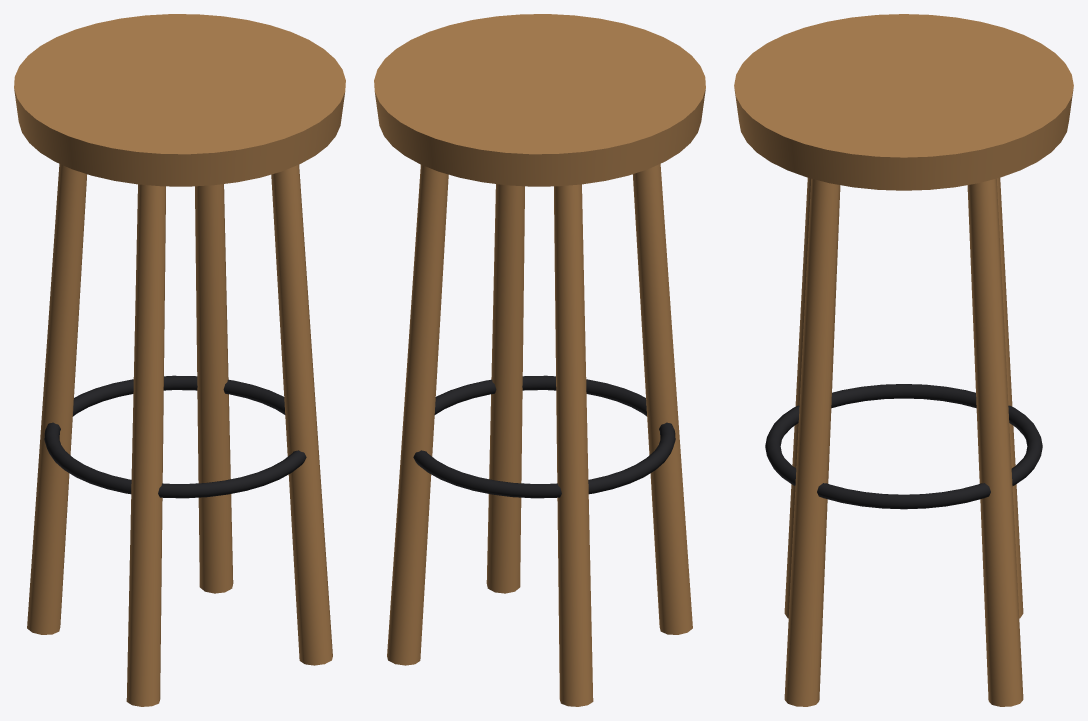
File: stool.glb
3 views of the same model, side by side, from view 1: azimuth 30°, elevation 25°; view 2: azimuth 150°, elevation 25°; view 3: azimuth 270°, elevation 25° (orthographic). The views are drawn at different scales.
Parts seen in each view (by area): view 1: Wooden stool; view 2: Wooden stool; view 3: Wooden stool.
Boxes of the visible parts, box(x1,y1,x2,y2) form: Wooden stool: box(14, 14, 345, 706); Wooden stool: box(374, 14, 705, 706); Wooden stool: box(734, 14, 1073, 706).
Bounding box in the file's own units: 0.35 × 0.6505 × 0.35.
